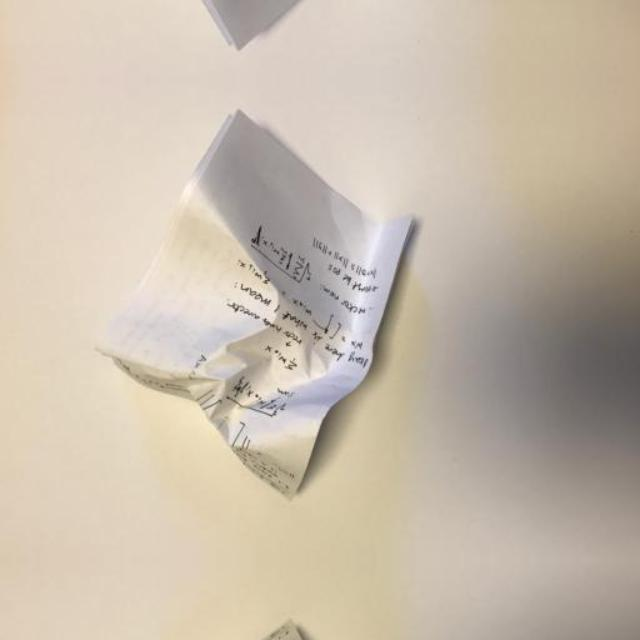paper: (114, 92, 424, 520), (114, 0, 424, 67), (114, 600, 424, 640)
